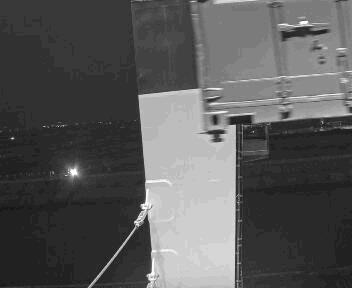twist_lock_1: (218, 125, 244, 149)
